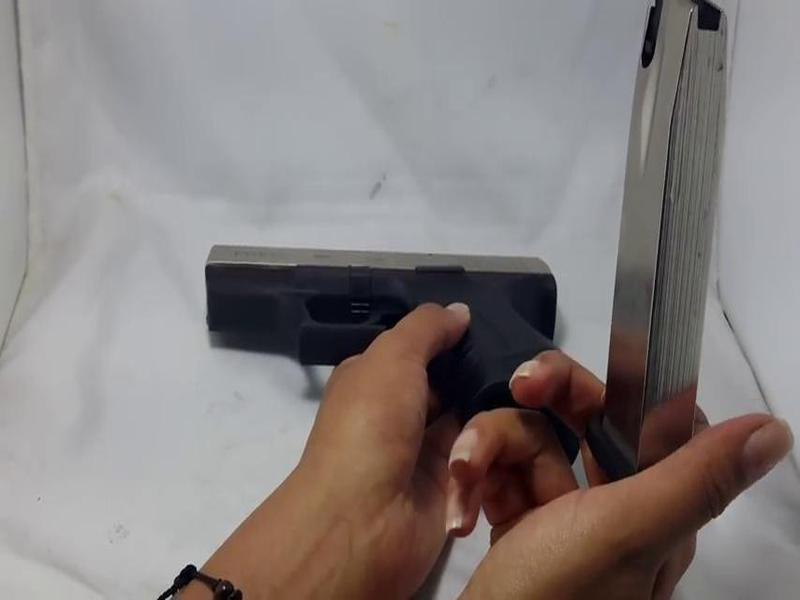Pistola: (183, 225, 593, 447)
